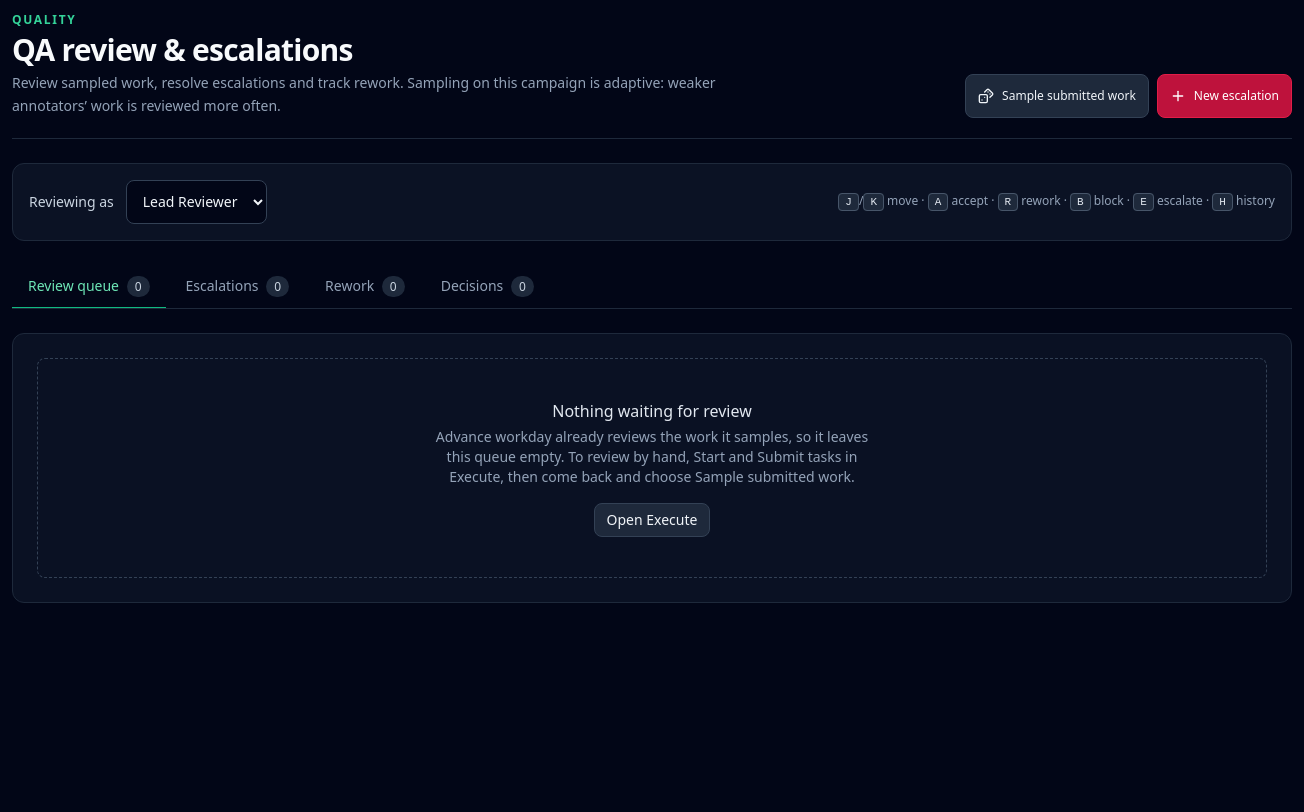
Test: QAPage Component › explains how to fill an empty queue by hand
expect the text "Advance workday already reviews the work it samples" is shown: met, box [436,426,868,486]
Click the button "Sample submitted work" at coordinates (1057, 96), box [965,74,1149,118]
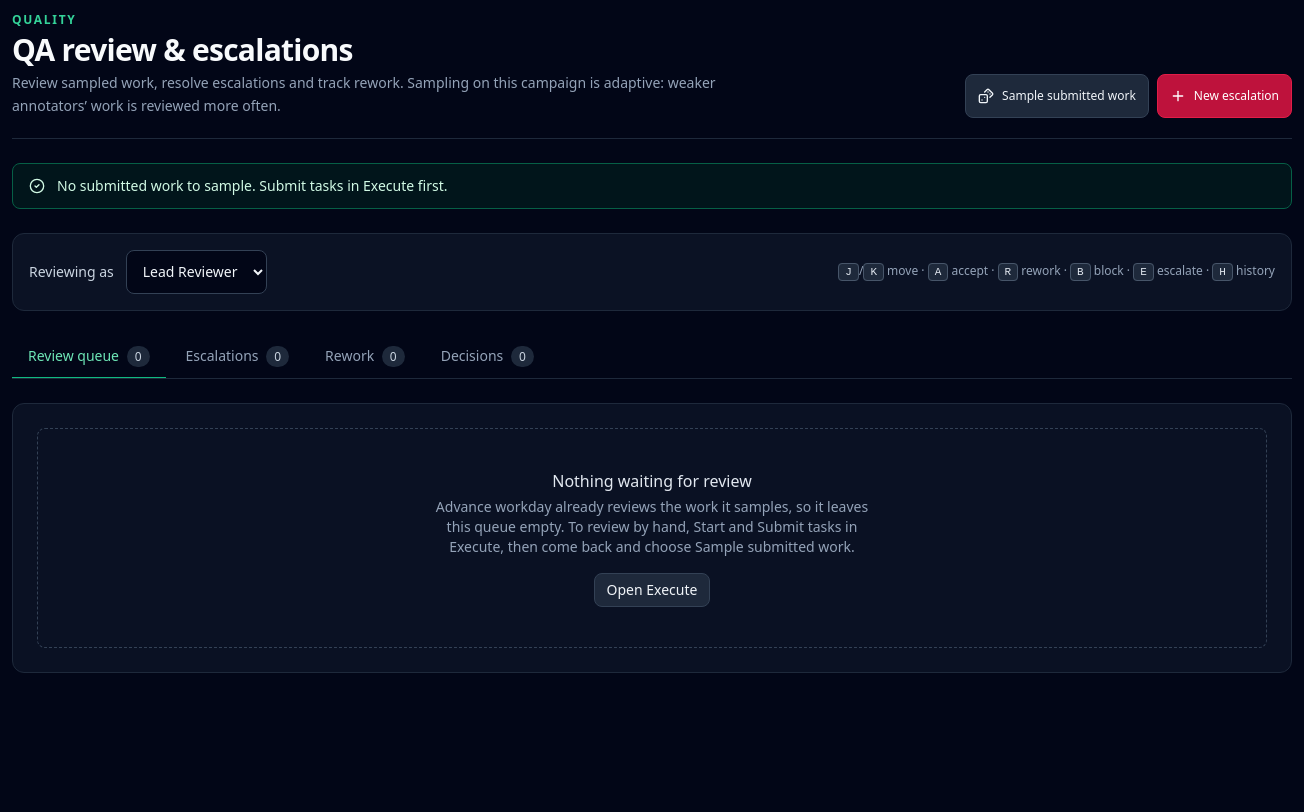
expect the text "No submitted work to sample. Submit tasks in Execute first." is shown: met, box [57,176,448,196]
